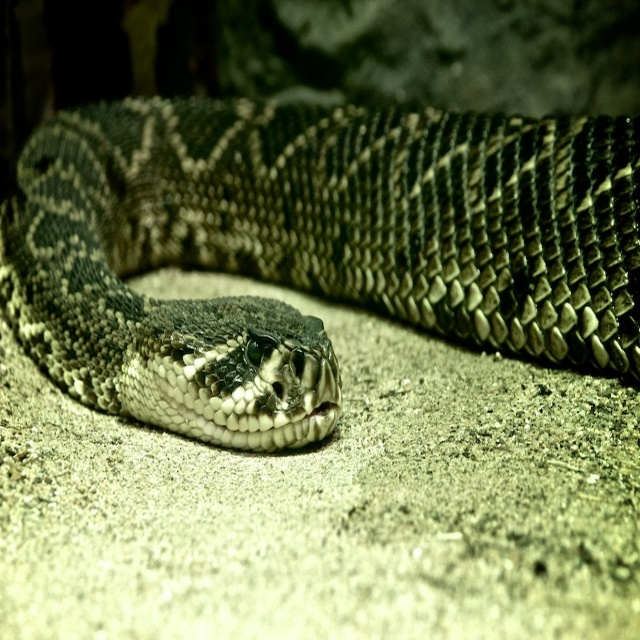Snake: (0, 91, 640, 460)
